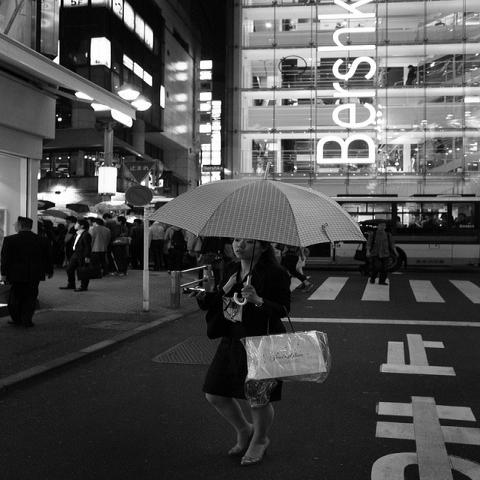bus: (305, 192, 479, 274)
